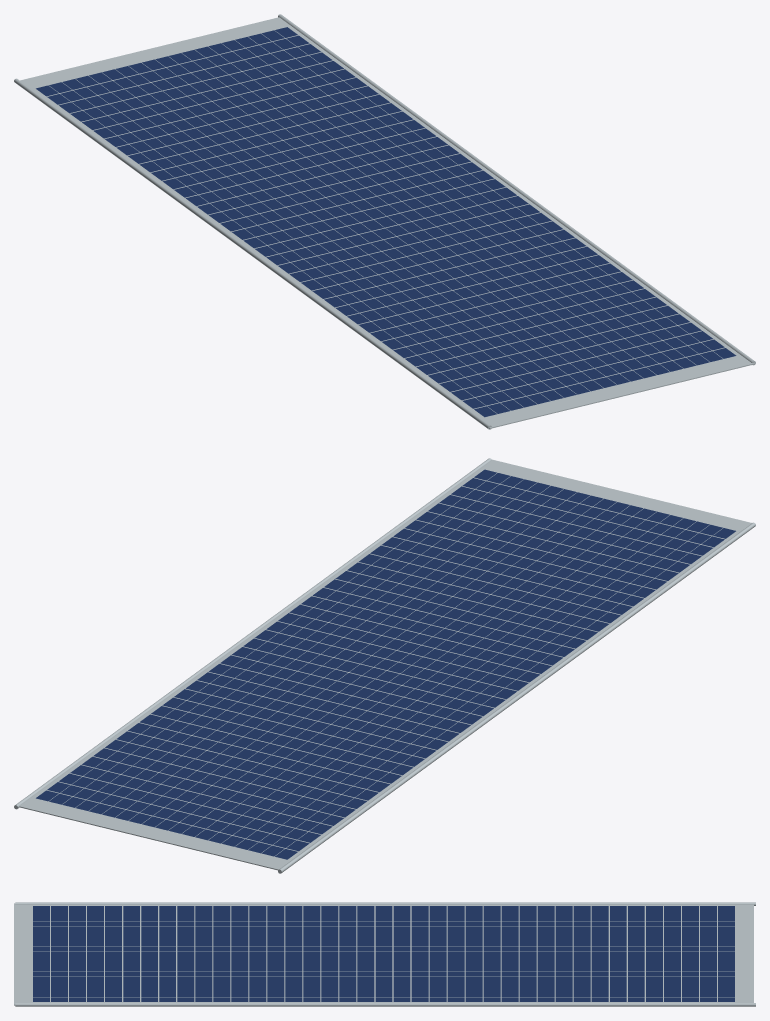
Rendered from iss_arrays.p6_alpha_joint.wing_aft.irosa.glb.
The picture shows the model from 3 angles, top to bottom: view 1: azimuth 30°, elevation 25°; view 2: azimuth 150°, elevation 25°; view 3: azimuth 270°, elevation 25°; orthographic projection. The views are drawn at different scales.
Visible parts, largest first — view 1: iss_arrays.p6_alpha_joint.wing_aft.irosa.cells.mesh_Indigo_s, iss_arrays.p6_alpha_joint.wing_aft.irosa.cells.mesh_Satin_al, iss_arrays.p6_alpha_joint.wing_aft.irosa.mesh_Satin_aluminum; view 2: iss_arrays.p6_alpha_joint.wing_aft.irosa.cells.mesh_Indigo_s, iss_arrays.p6_alpha_joint.wing_aft.irosa.cells.mesh_Satin_al, iss_arrays.p6_alpha_joint.wing_aft.irosa.mesh_Satin_aluminum; view 3: iss_arrays.p6_alpha_joint.wing_aft.irosa.cells.mesh_Indigo_s, iss_arrays.p6_alpha_joint.wing_aft.irosa.cells.mesh_Satin_al, iss_arrays.p6_alpha_joint.wing_aft.irosa.mesh_Satin_aluminum.
Boxes of the visible parts, <box> form: iss_arrays.p6_alpha_joint.wing_aft.irosa.cells.mesh_Indigo_s: <box>36,27,736,417</box>; iss_arrays.p6_alpha_joint.wing_aft.irosa.cells.mesh_Satin_al: <box>20,17,755,428</box>; iss_arrays.p6_alpha_joint.wing_aft.irosa.mesh_Satin_aluminum: <box>14,14,755,429</box>; iss_arrays.p6_alpha_joint.wing_aft.irosa.cells.mesh_Indigo_s: <box>36,469,735,859</box>; iss_arrays.p6_alpha_joint.wing_aft.irosa.cells.mesh_Satin_al: <box>19,459,751,870</box>; iss_arrays.p6_alpha_joint.wing_aft.irosa.mesh_Satin_aluminum: <box>14,458,755,873</box>; iss_arrays.p6_alpha_joint.wing_aft.irosa.cells.mesh_Indigo_s: <box>33,906,734,1001</box>; iss_arrays.p6_alpha_joint.wing_aft.irosa.cells.mesh_Satin_al: <box>14,903,753,1005</box>; iss_arrays.p6_alpha_joint.wing_aft.irosa.mesh_Satin_aluminum: <box>15,902,755,1006</box>.
Size of the model in its own units: 6.01 by 0.09 by 18.45.
